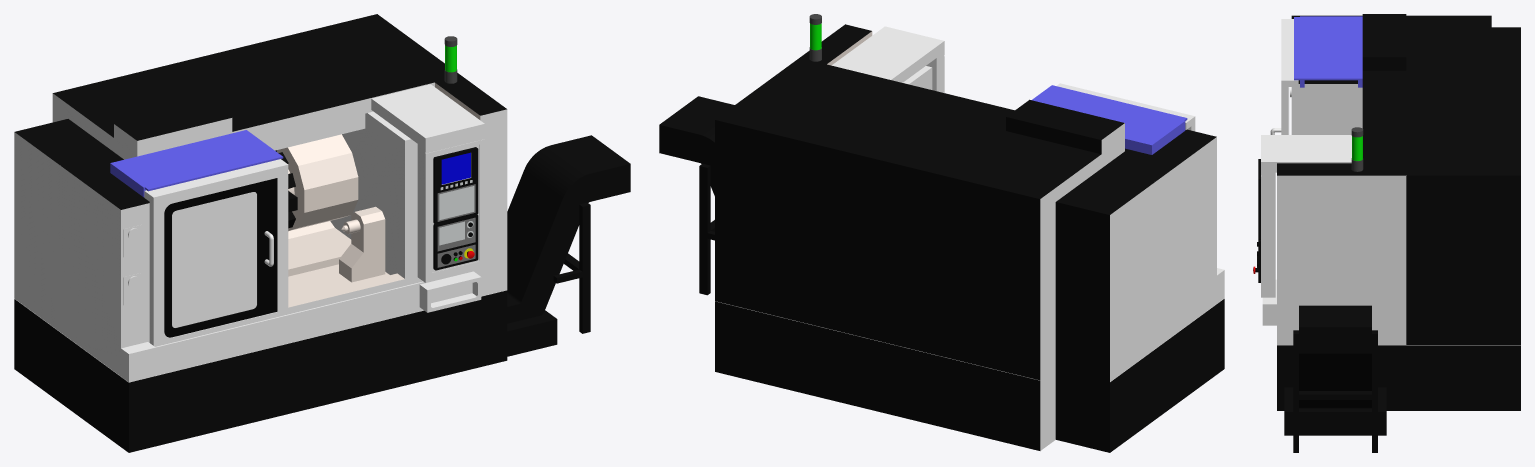
Rendered from Headman.glb.
3 views of the same model, side by side, from view 1: azimuth 30°, elevation 25°; view 2: azimuth 150°, elevation 25°; view 3: azimuth 270°, elevation 25° (orthographic). The views are drawn at different scales.
Parts seen in each view (by area): view 1: CNC-1, Door-1, Hatch-1; view 2: CNC-1, Hatch-1, Door-1; view 3: CNC-1, Hatch-1, Door-1.
Part boxes in pixels (bbox=[...]): CNC-1: bbox=[14, 14, 630, 452]; Door-1: bbox=[144, 159, 288, 346]; Hatch-1: bbox=[110, 130, 283, 197]; CNC-1: bbox=[659, 14, 1224, 452]; Hatch-1: bbox=[1031, 85, 1187, 154]; Door-1: bbox=[1056, 83, 1195, 131]; CNC-1: bbox=[1253, 14, 1520, 452]; Hatch-1: bbox=[1294, 16, 1362, 87]; Door-1: bbox=[1270, 19, 1298, 134].
Bounding box in the file's own units: 3.8 × 2.08 × 1.83.
